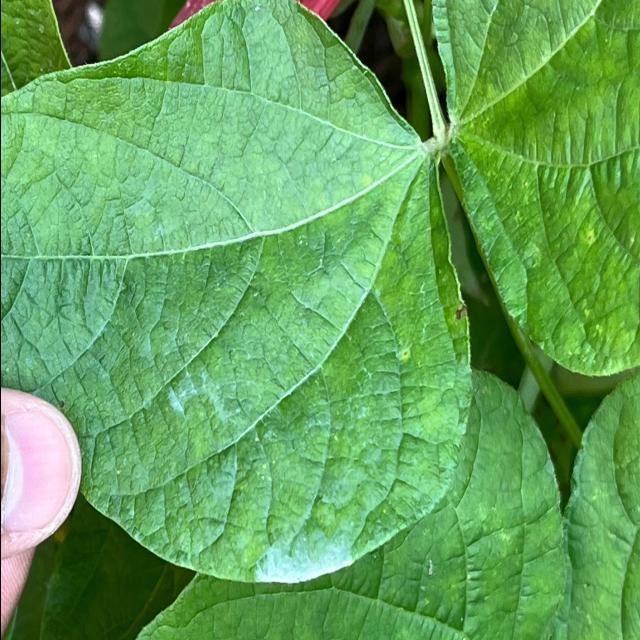embun tepung: (243, 528, 369, 605)
